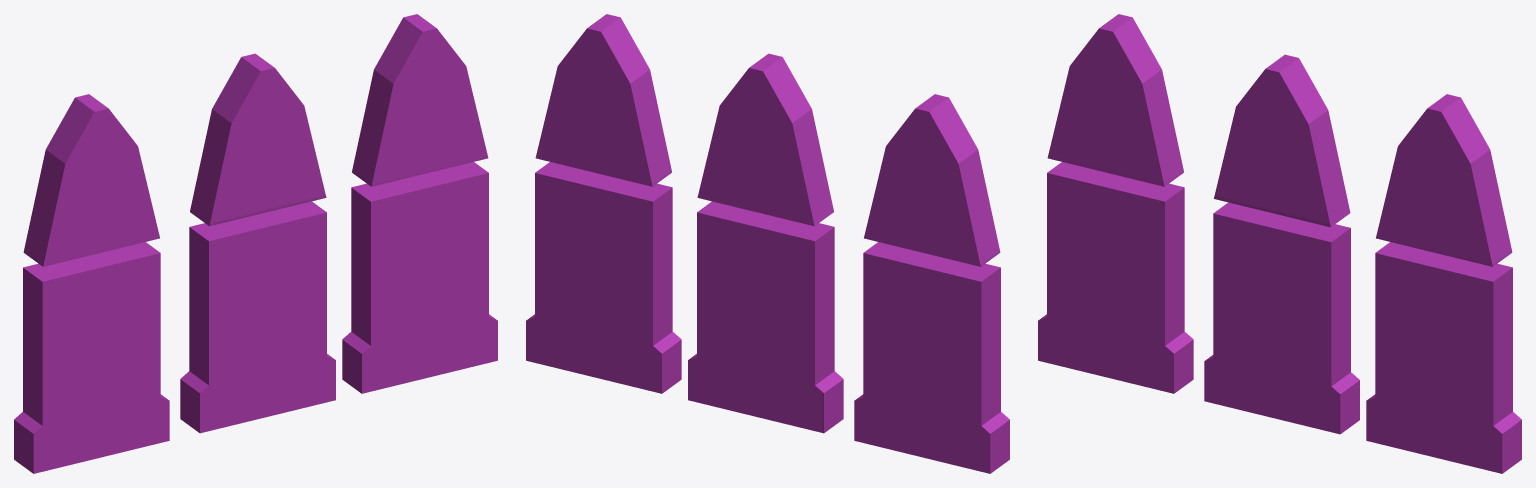
File: power_up_tiro_multiplo.glb
3 renders of one model, left to right at view 1: azimuth 30°, elevation 25°; view 2: azimuth 150°, elevation 25°; view 3: azimuth 330°, elevation 25°, orthographic.
Visible parts, largest first — view 1: node_id72; view 2: node_id72; view 3: node_id72.
Part boxes in pixels (box(x1,y1,x2,y2)): node_id72: box(14, 14, 497, 473); node_id72: box(526, 14, 1009, 473); node_id72: box(1038, 14, 1521, 473).
Bounding box in the file's own units: 0.0714 × 0.051 × 0.00523.
Materials: 1 (1 with a texture image).
